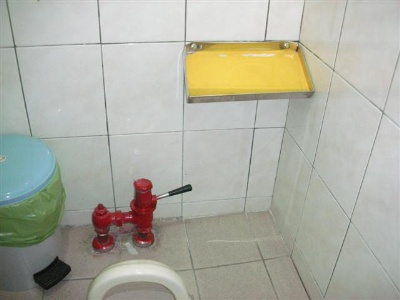plate: (183, 50, 316, 104)
